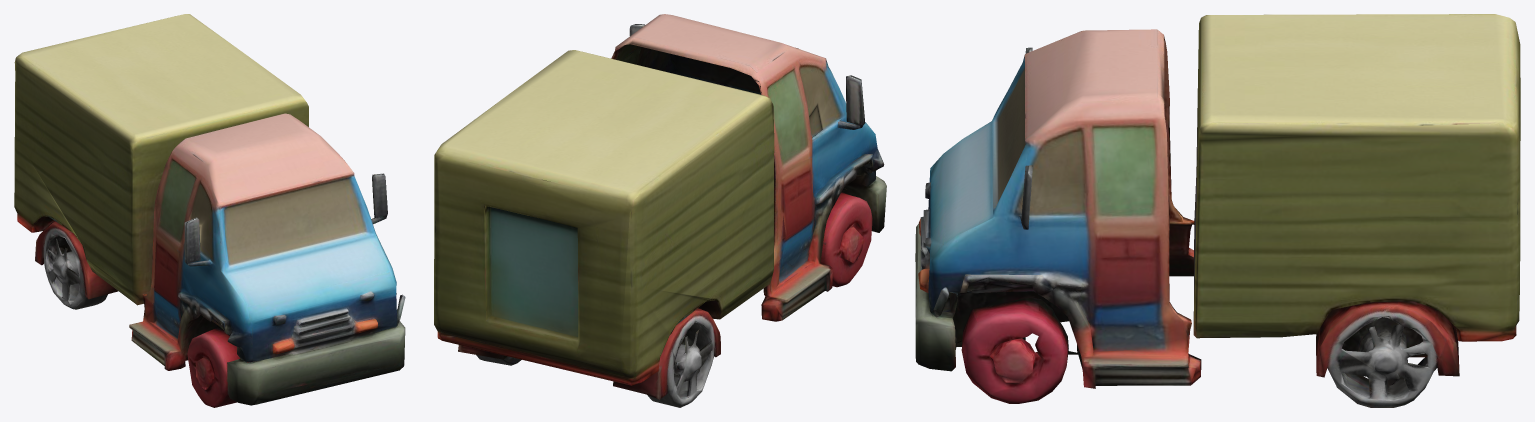
Rendered from delivery_truck.glb.
The picture shows the model from 3 angles, left to right: view 1: azimuth 30°, elevation 25°; view 2: azimuth 150°, elevation 25°; view 3: azimuth 270°, elevation 25°; orthographic projection. The views are drawn at different scales.
Parts seen in each view (by area): view 1: delivery_truck; view 2: delivery_truck; view 3: delivery_truck.
Part boxes in pixels (<box>): delivery_truck: <box>14,14,405,407</box>; delivery_truck: <box>434,14,886,407</box>; delivery_truck: <box>915,14,1520,407</box>.
Size of the model in its own units: 0.5064 by 0.5352 by 0.9986.
1 material, 1 textured.
